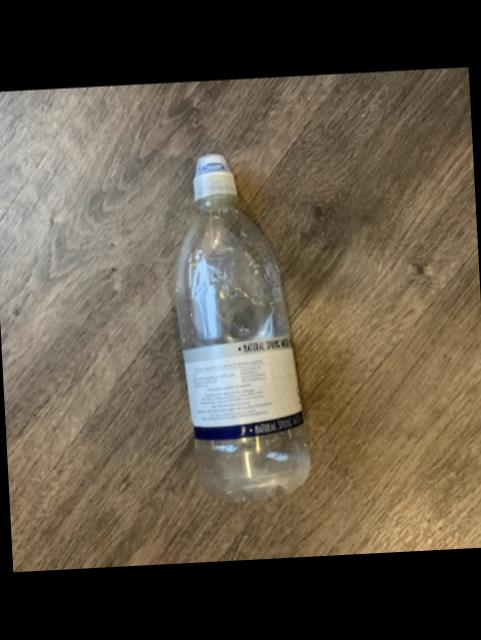plastic: (173, 157, 308, 502)
